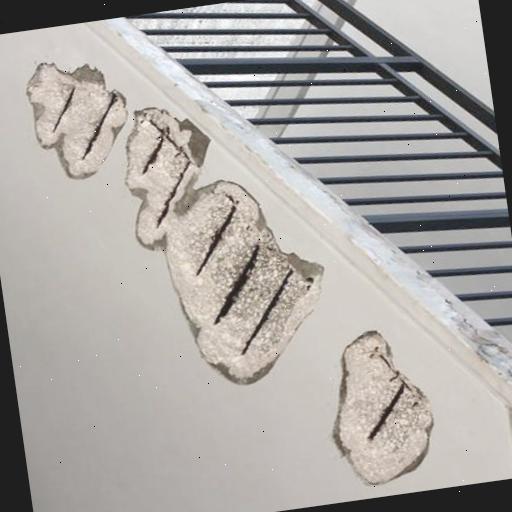spalling: (117, 94, 331, 387), (326, 328, 442, 492), (20, 41, 130, 193)
